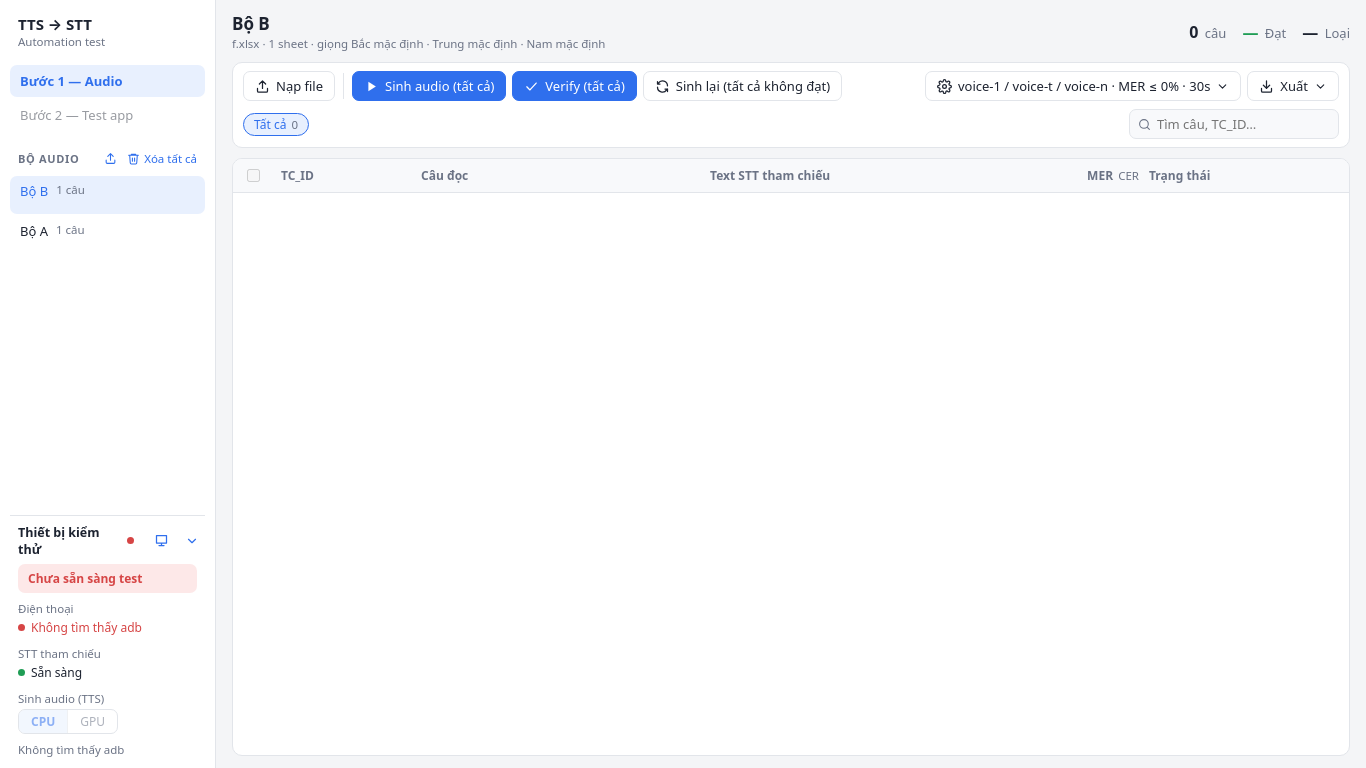
Test: clears all data and leaves no set open
What coordinates should you click on to do the following:
click the button with aria-label "Xóa toàn bộ dữ liệu"
I would click on:
 (162, 158)
Its box is [123,147,201,170].
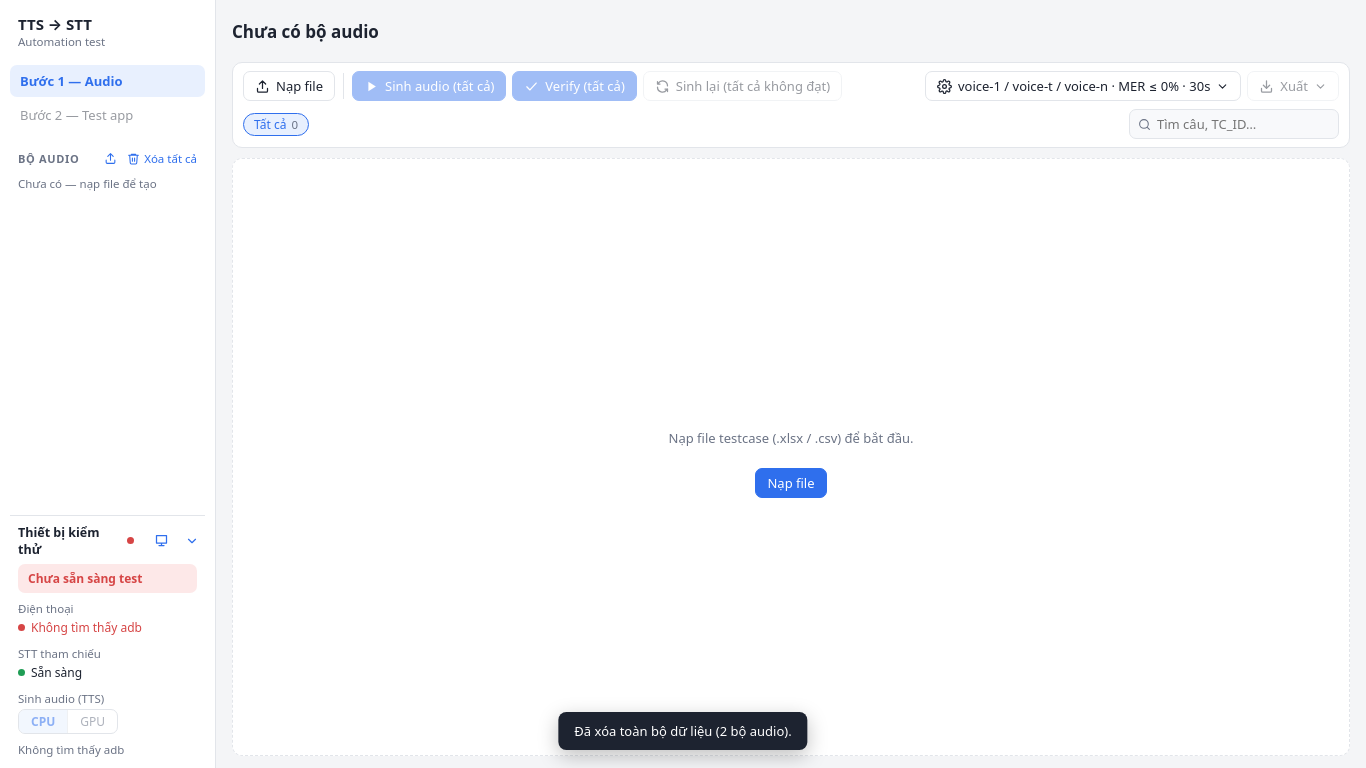
Expected: the text "Đã xóa toàn bộ dữ liệu (2 bộ audio)." is shown, [558,712,808,750]
